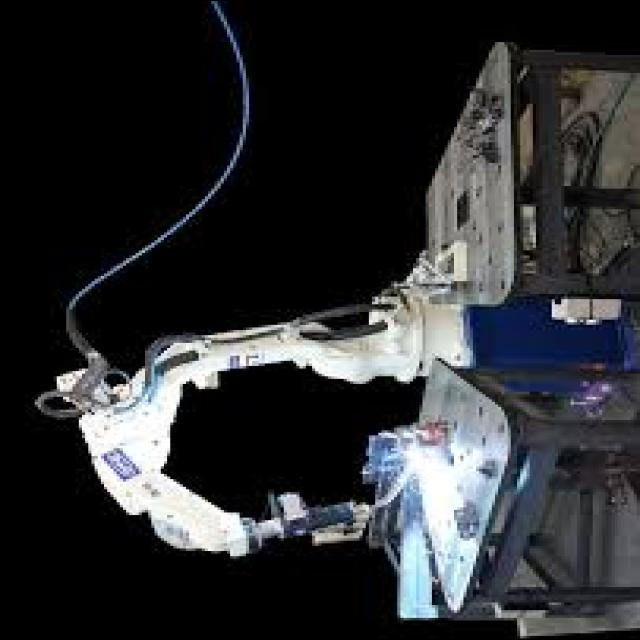Robotic-arm: (31, 274, 454, 578)
